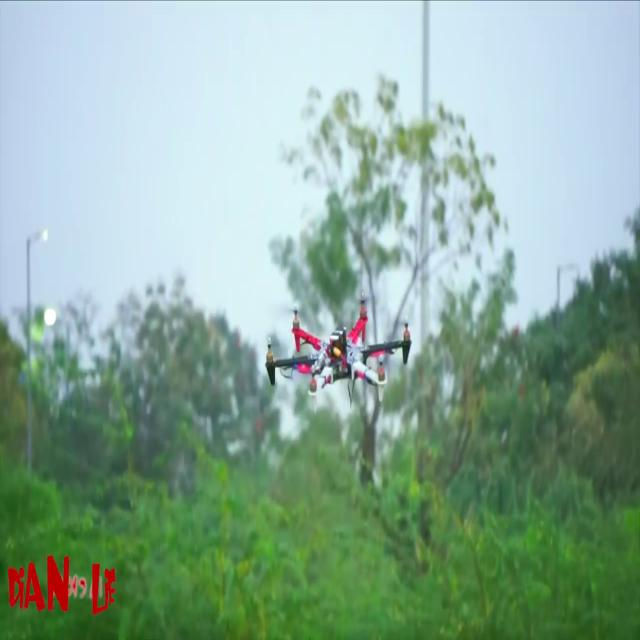drone: (246, 289, 419, 428)
